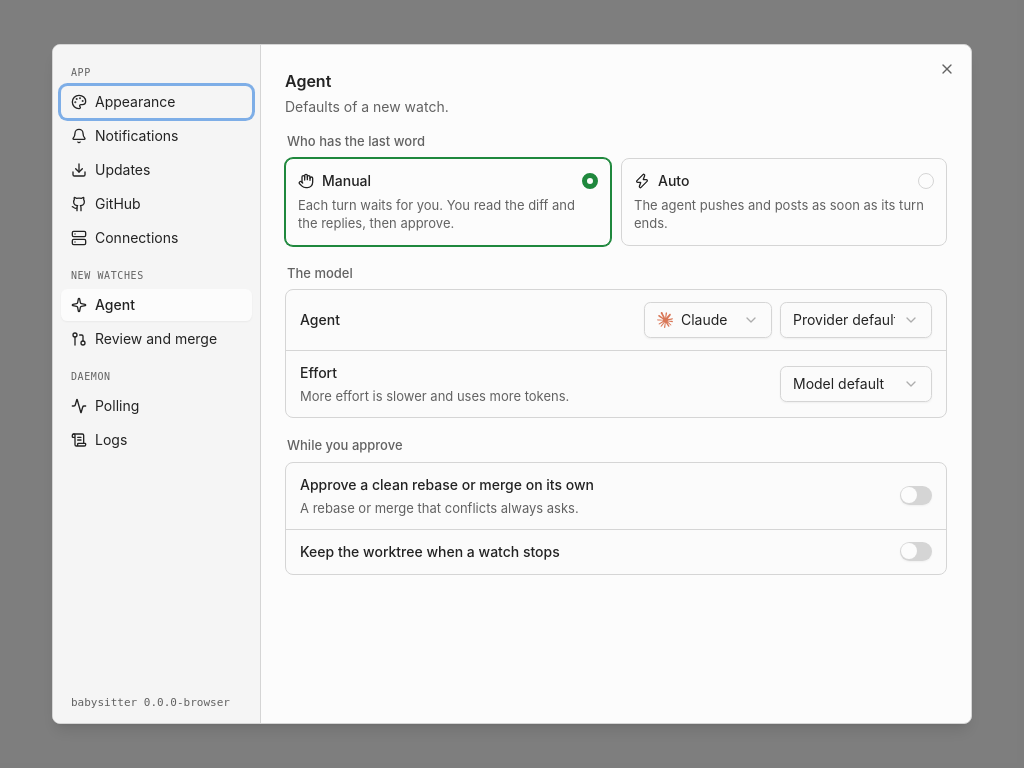
a tile saves its approval mode at once
This screenshot has width=1024, height=768.
Click the text "The agent pushes and posts as soon as its turn ends." at (784, 215), box x1=634 y1=197 x2=934 y2=233
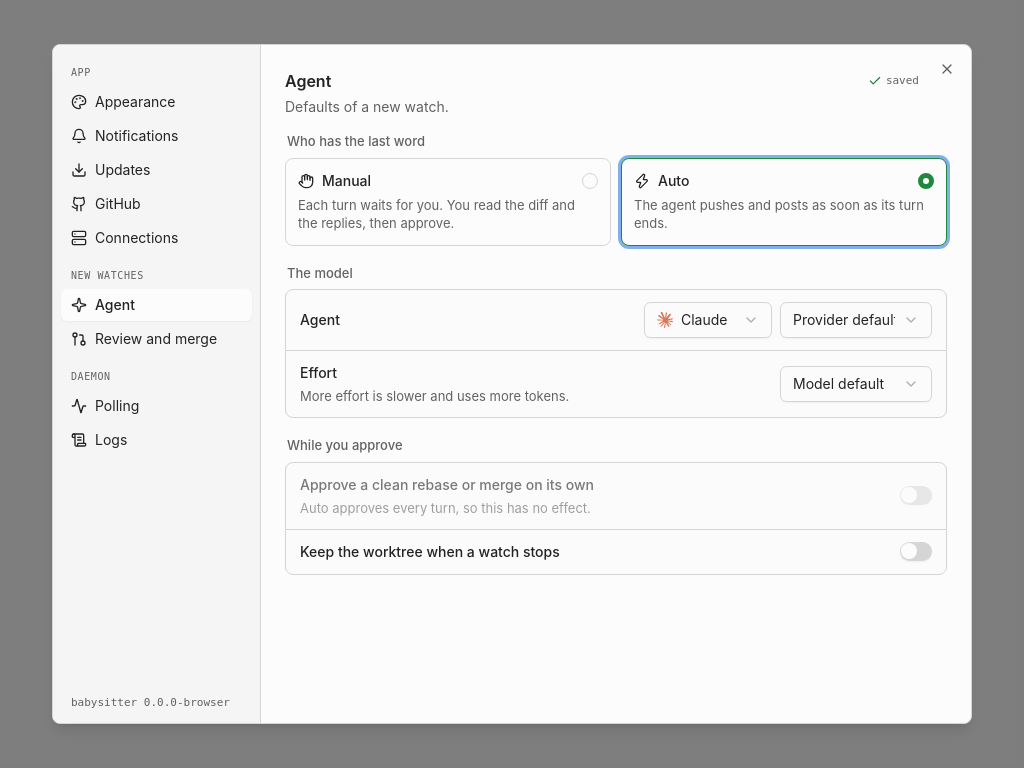
Expected: the radio button labelled "Auto The agent pushes and posts as soon as its turn ends." is checked, x1=621 y1=158 x2=947 y2=246
